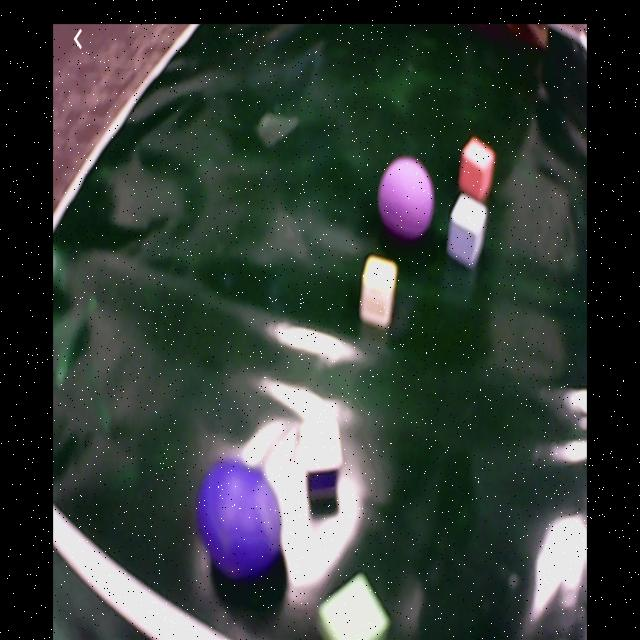ball: (195, 462, 286, 579), (380, 157, 434, 241)
